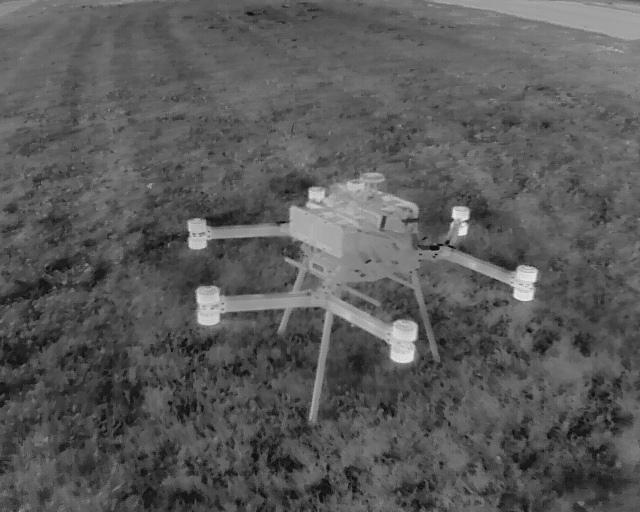drone: (125, 146, 629, 428)
